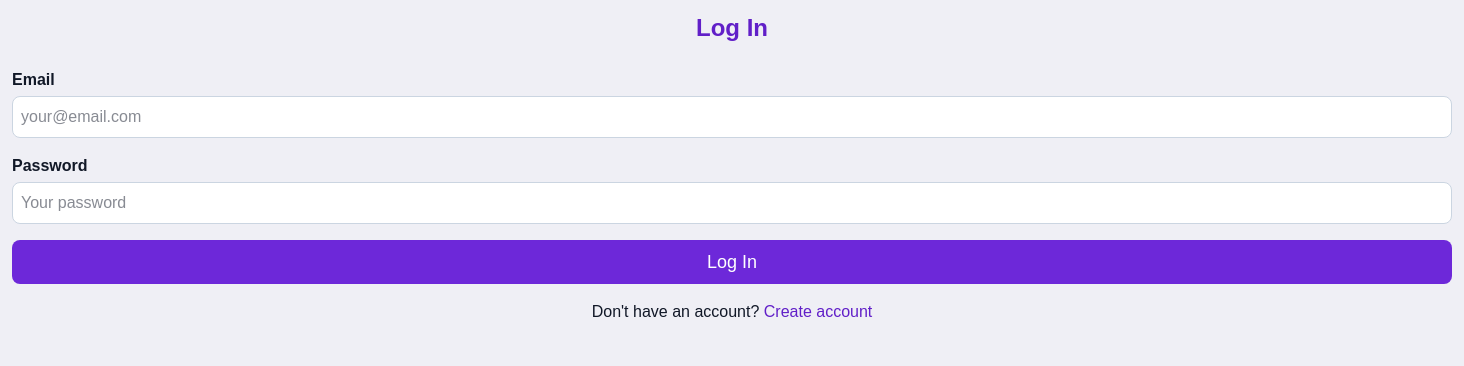
Scenario: AuthForm › shows validation error for short password
Type "short" into the password field labelled "Password" at (732, 203), box [12,182,1452,224]
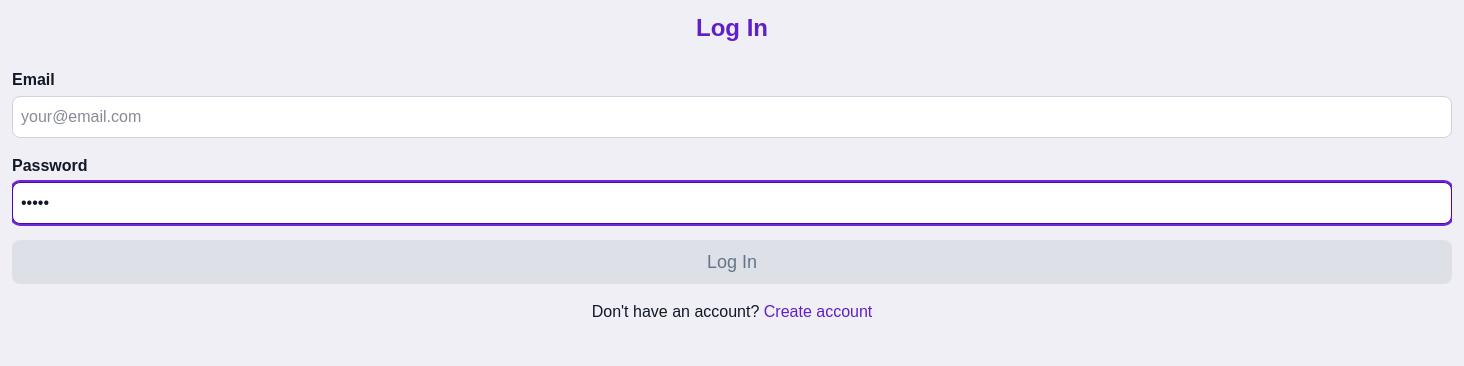
Press Tab
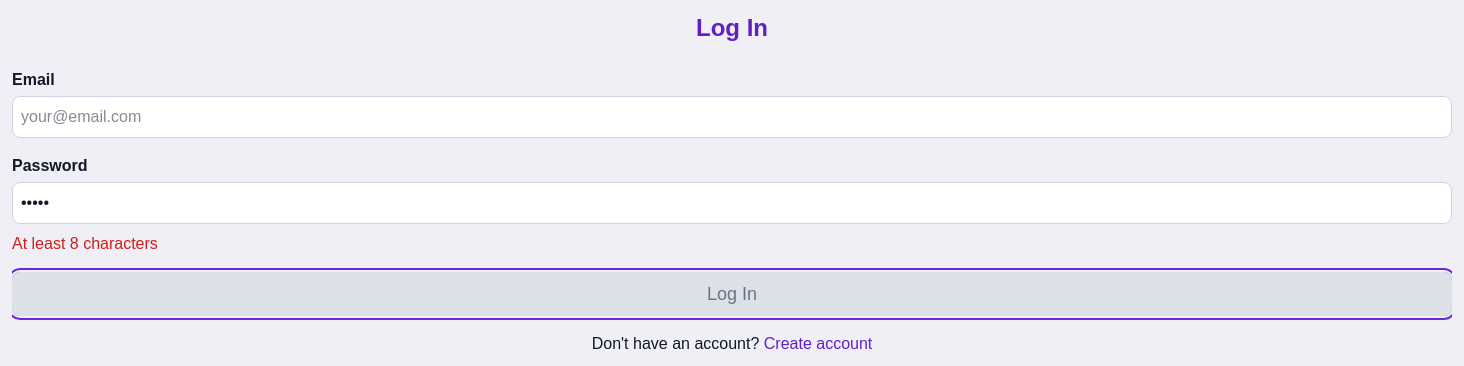
Expected: the text "At least 8 characters" is shown, [12,235,158,252]
